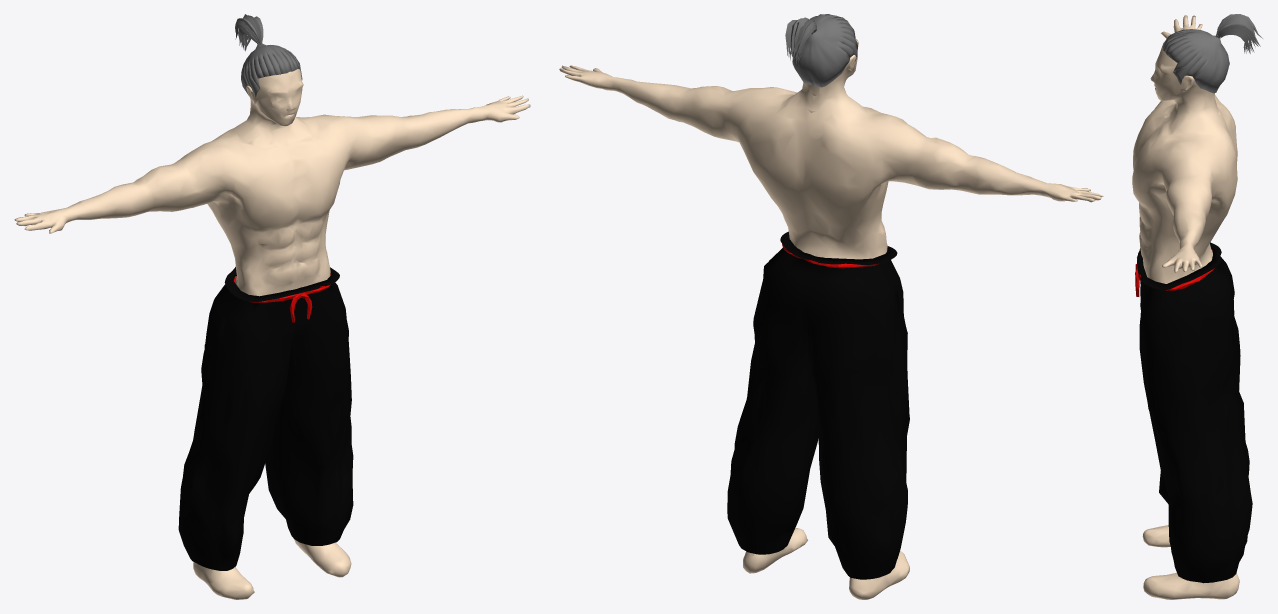
File: GameCharacter_low_oneskin.fbx
3 renders of one model, left to right at view 1: azimuth 30°, elevation 25°; view 2: azimuth 150°, elevation 25°; view 3: azimuth 270°, elevation 25°, orthographic. The views are drawn at different scales.
Visible parts, largest first — view 1: pants; view 2: pants; view 3: pants.
Boxes of the visible parts, x1,y1,x2,y2 form: pants: (14,14,530,599); pants: (559,14,1103,599); pants: (1132,14,1262,599).
Bounding box in the file's own units: 1197 × 1211 × 260.
